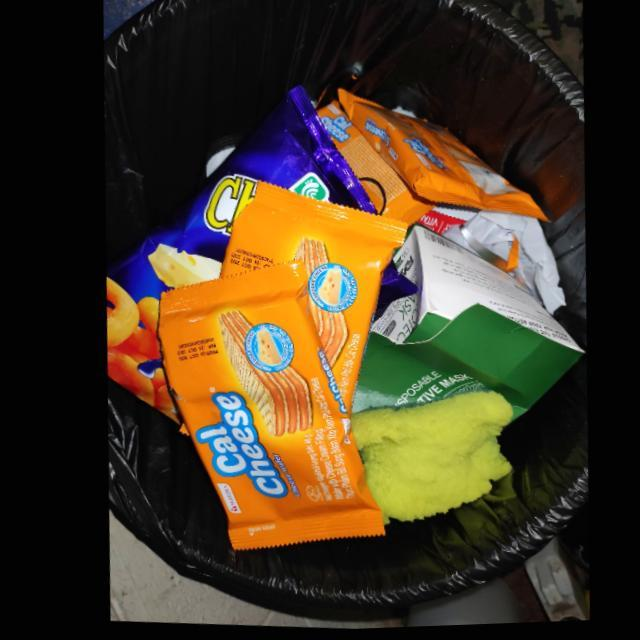paper: (344, 226, 578, 423)
wrapper: (100, 85, 373, 427), (150, 262, 374, 551), (214, 181, 403, 419), (333, 89, 545, 225), (313, 102, 432, 229)
